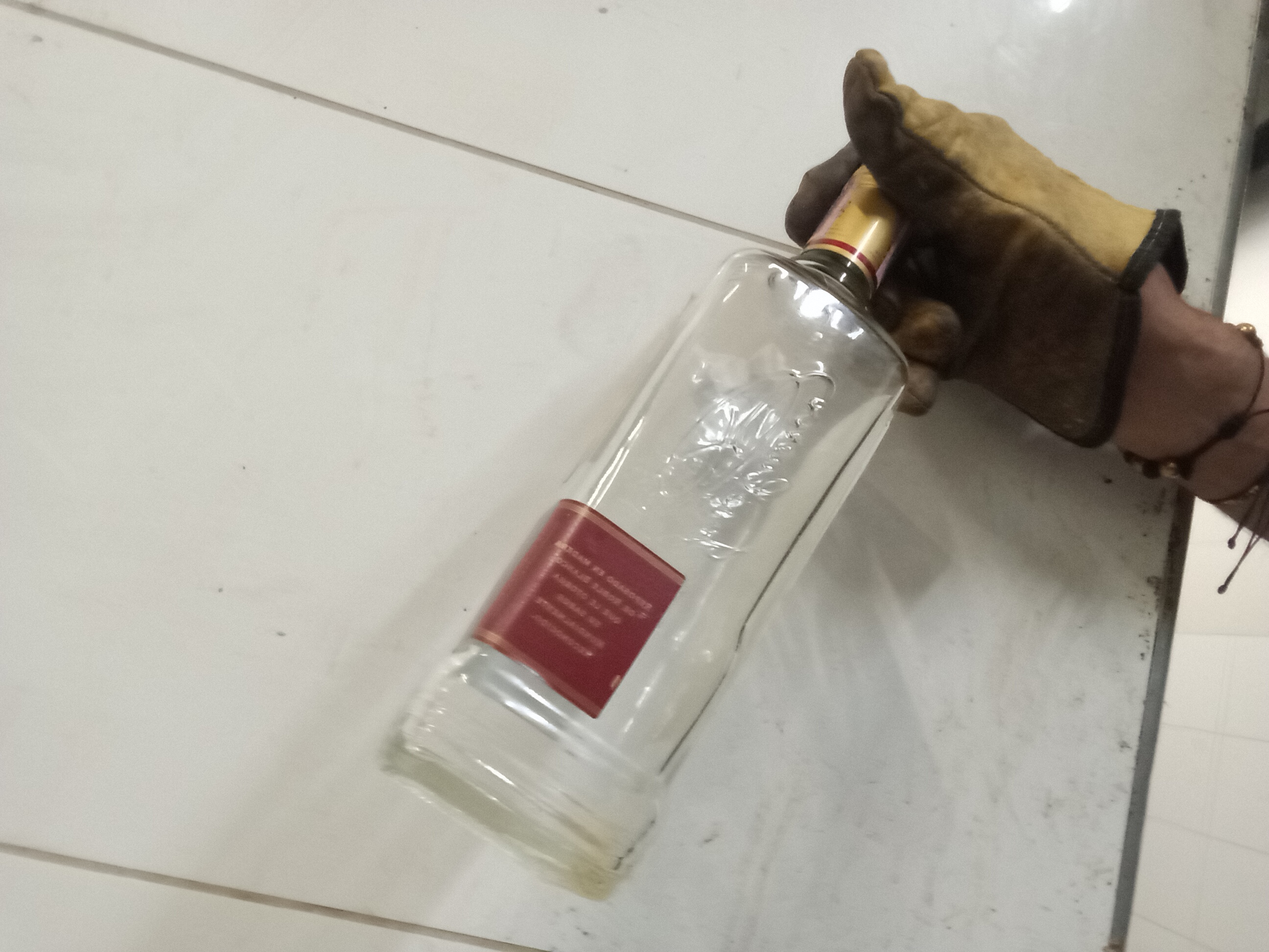Vidrio: (378, 166, 913, 900)
